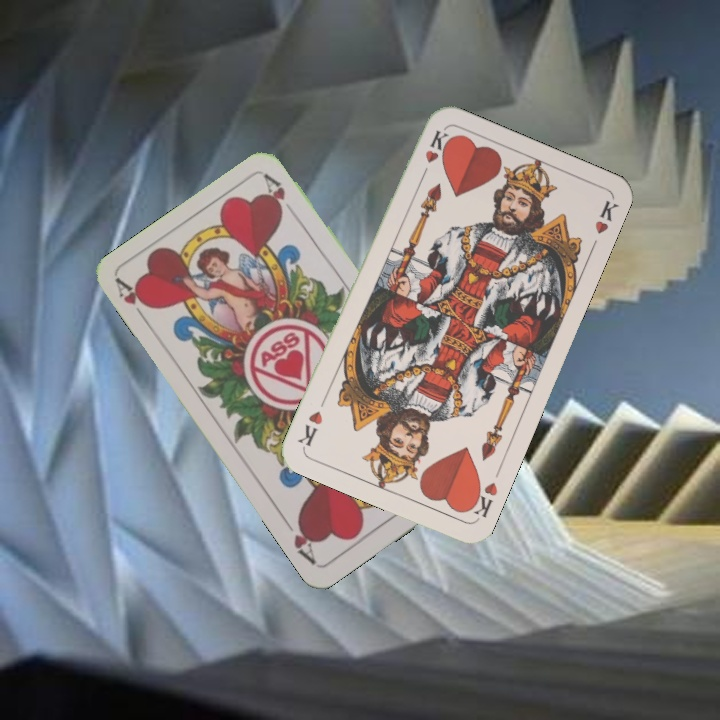HA: (112, 275, 155, 328)
HK: (416, 125, 450, 183), (463, 476, 501, 522)
